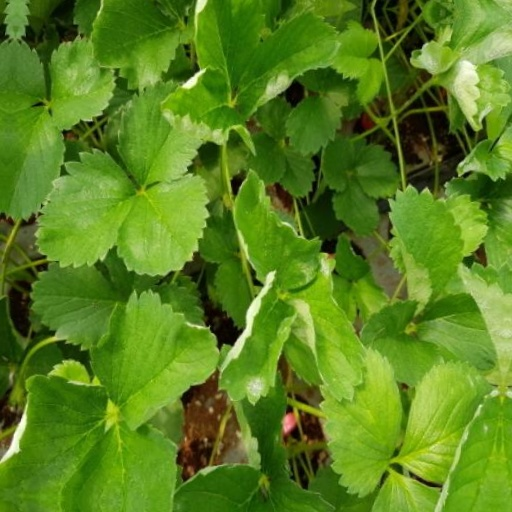Powdery Mildew Leaf: (283, 295, 418, 440), (390, 386, 511, 511), (137, 246, 227, 399), (185, 2, 288, 120), (189, 168, 282, 289), (210, 269, 285, 406), (263, 69, 362, 157), (0, 373, 60, 511), (406, 46, 479, 145), (11, 44, 91, 117), (0, 8, 67, 49), (63, 28, 116, 62)
